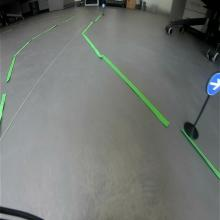right: (207, 70, 220, 97)
